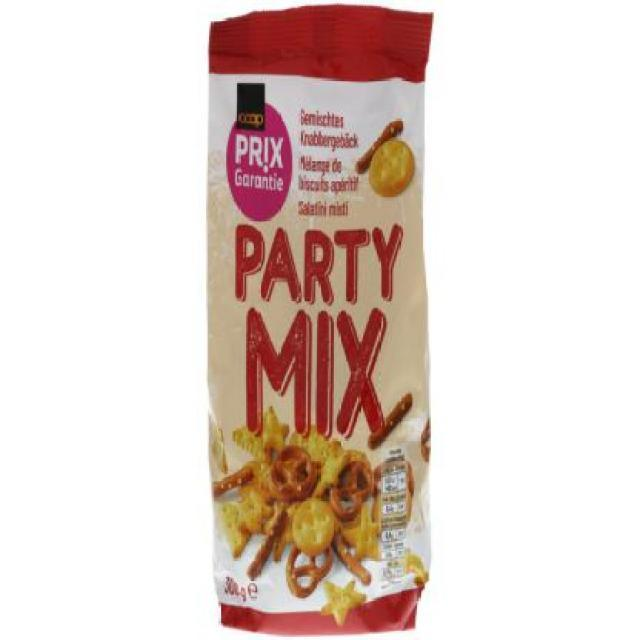Salatini: (199, 1, 439, 640)
